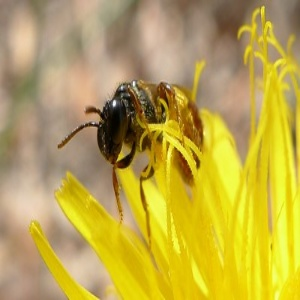bee: (55, 76, 206, 249)
